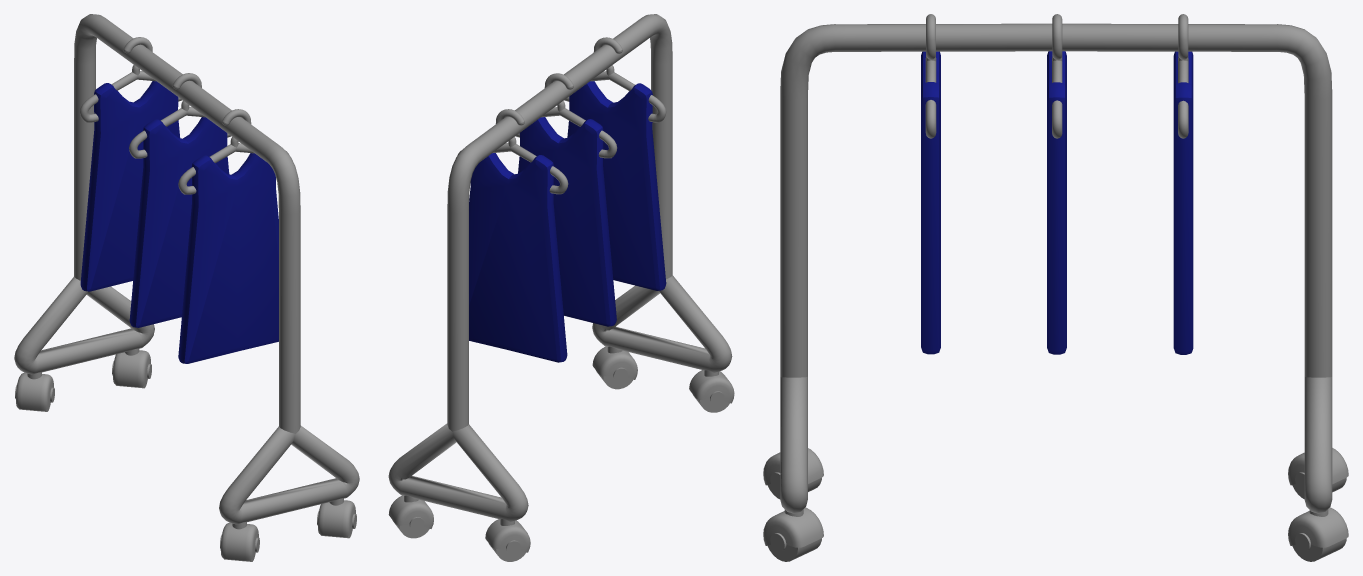
File: 3D_Prop_ClothesRack_Dresses.fbx
3 views of the same model, side by side, from view 1: azimuth 30°, elevation 25°; view 2: azimuth 150°, elevation 25°; view 3: azimuth 270°, elevation 25° (orthographic). The views are drawn at different scales.
Visible parts, largest first — view 1: Rack; view 2: Rack; view 3: Rack.
Boxes of the visible parts, x1,y1,x2,y2 form: Rack: (14, 14, 359, 561); Rack: (388, 14, 734, 561); Rack: (763, 14, 1348, 561).
Bounding box in the file's own units: 18.33 × 50.17 × 52.22.
